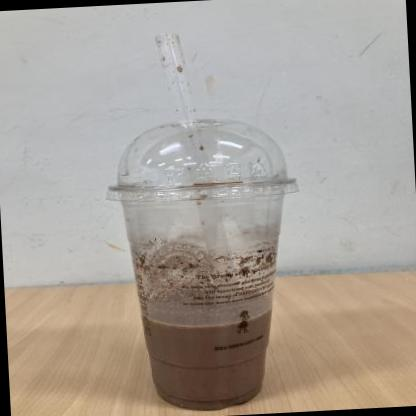Plastik: (119, 120, 285, 409)
